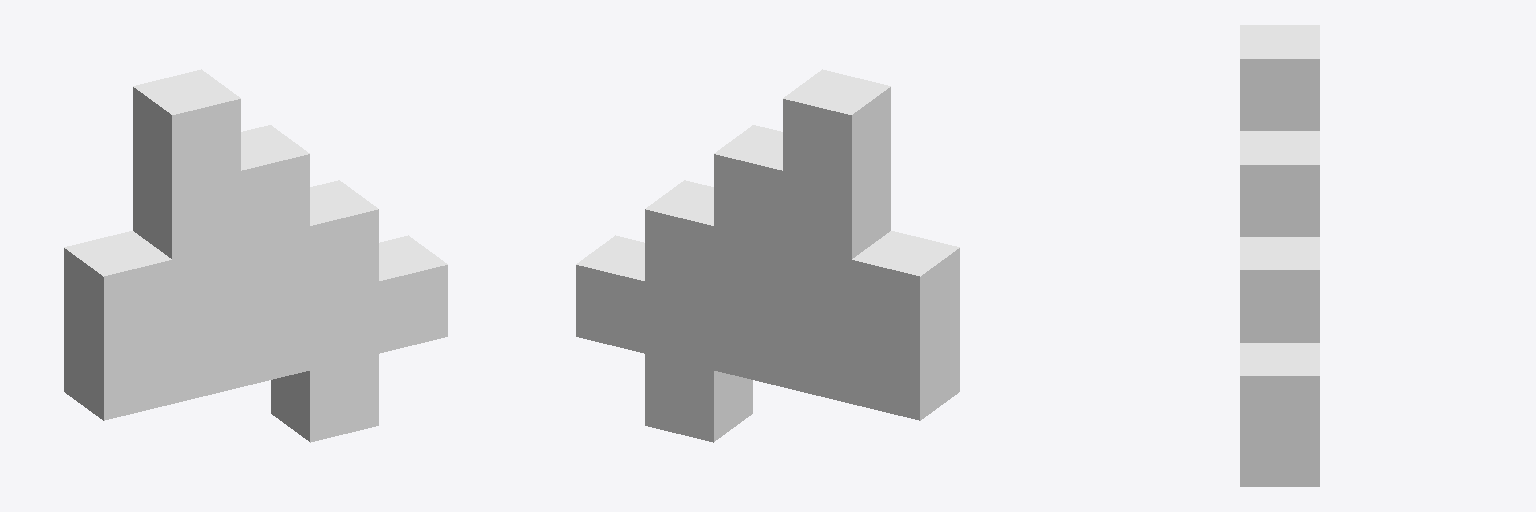
Rendered from YellowHouseParts-113.obj.
The picture shows the model from 3 angles: view 1: azimuth 30°, elevation 25°; view 2: azimuth 150°, elevation 25°; view 3: azimuth 270°, elevation 25°; orthographic projection.
Parts seen in each view (by area): view 1: object 1; view 2: object 1; view 3: object 1.
Part boxes in pixels (x1,y1,x2,y2): object 1: (64, 69, 447, 442); object 1: (576, 69, 959, 442); object 1: (1240, 25, 1319, 486).
Bounding box in the file's own units: 0.5 × 0.5 × 0.1.